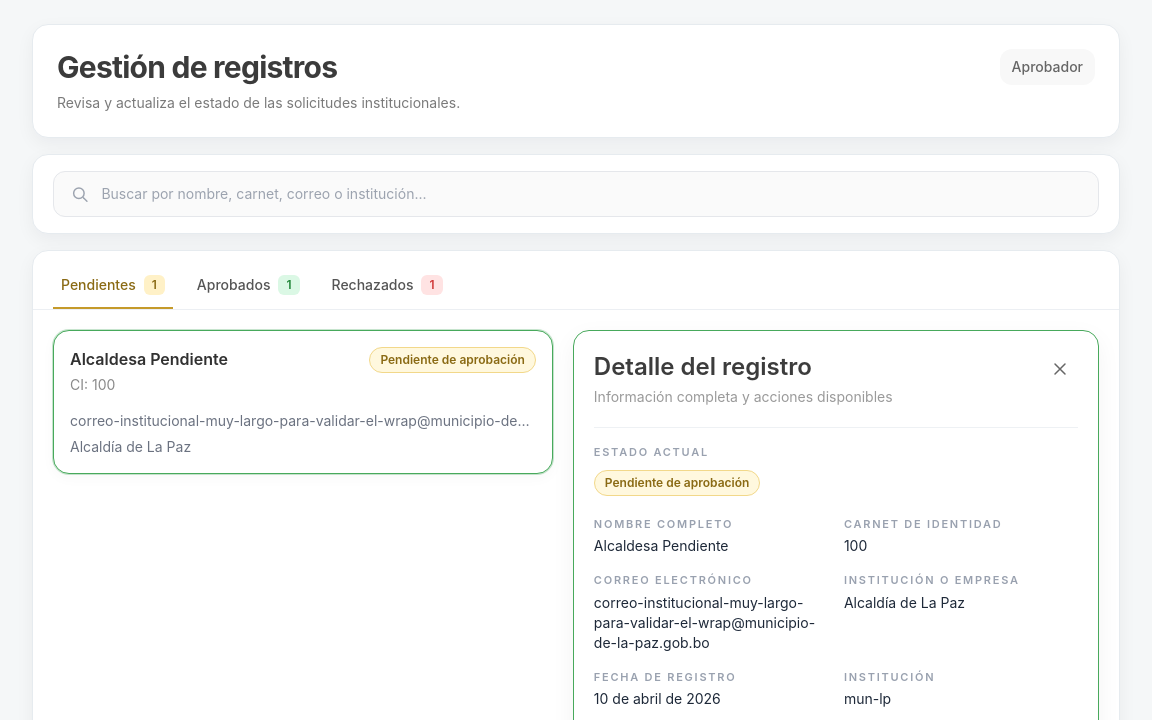
Test: MX-10 | aprobaciones de acceso territorial › [MX-10][CON-ACC-P0-004][INTEGRACION] revoca una solicitud aprobada y comunica la acción visible
Click the button "Aprobados 1". click: (248, 286)
box: [189, 263, 308, 309]
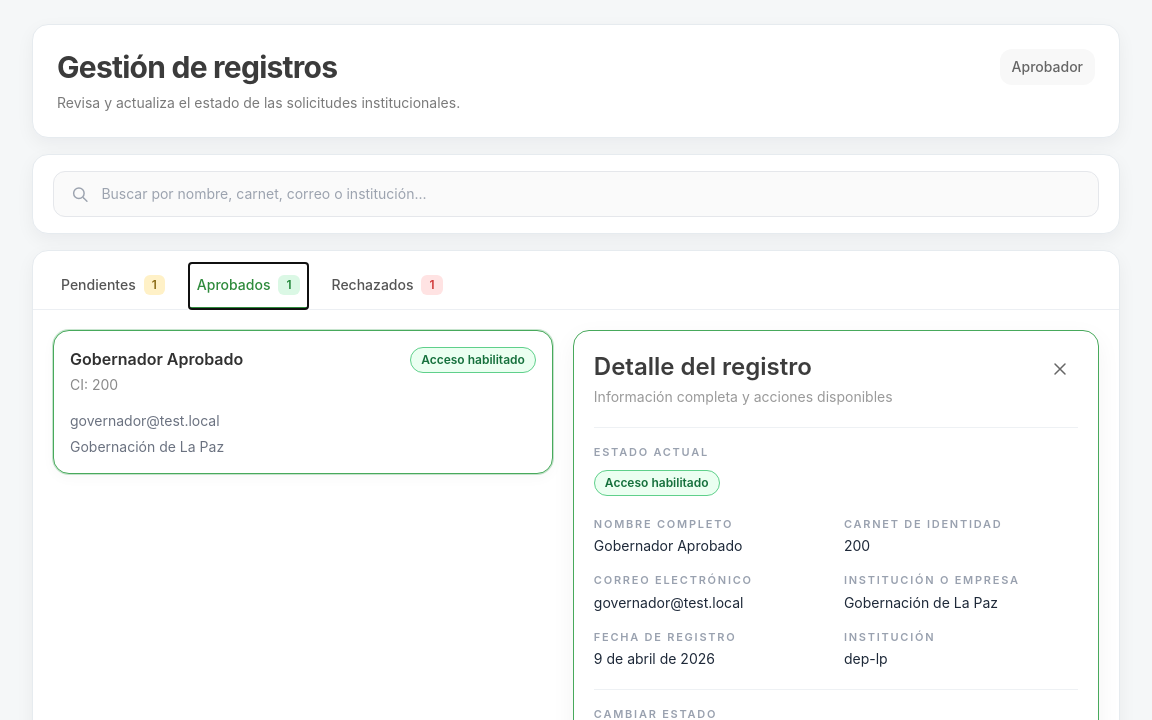
Click the button "Gobernador Aprobado". click: (157, 359)
box: [53, 330, 553, 474]
(page scrolled)
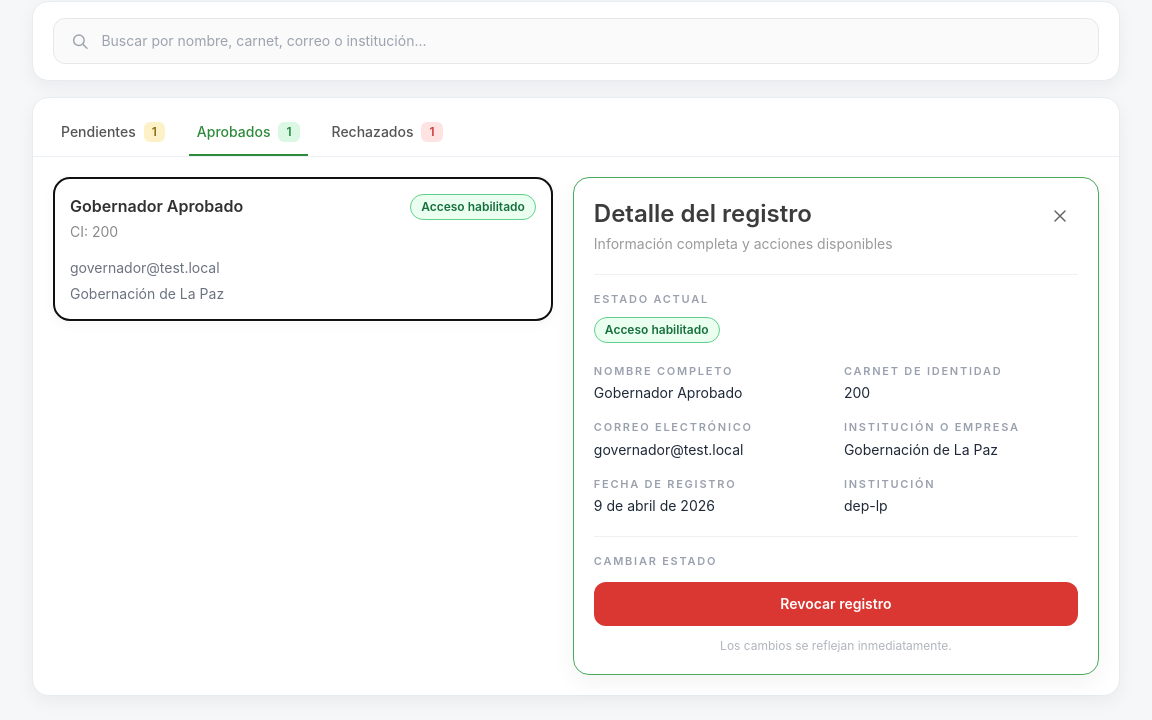
Click the button "Revocar registro". click: (836, 604)
box: [594, 582, 1078, 626]
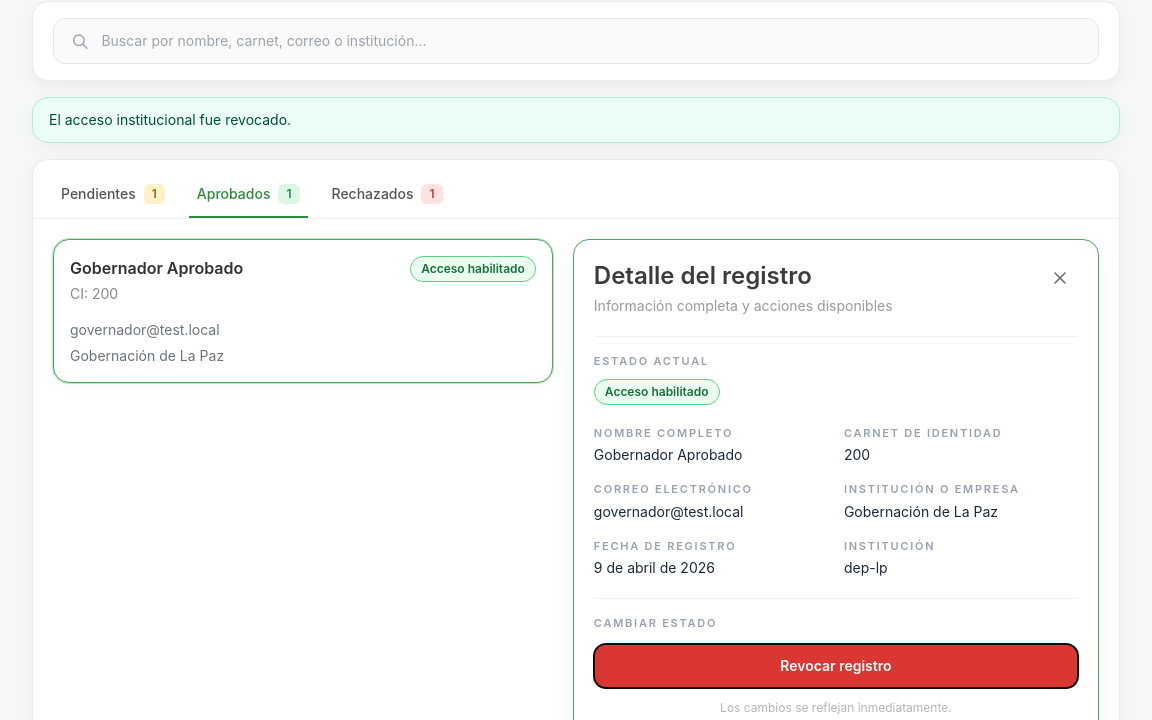
Expected: the text "El acceso institucional fue revocado." is shown, [32, 97, 1120, 143]
